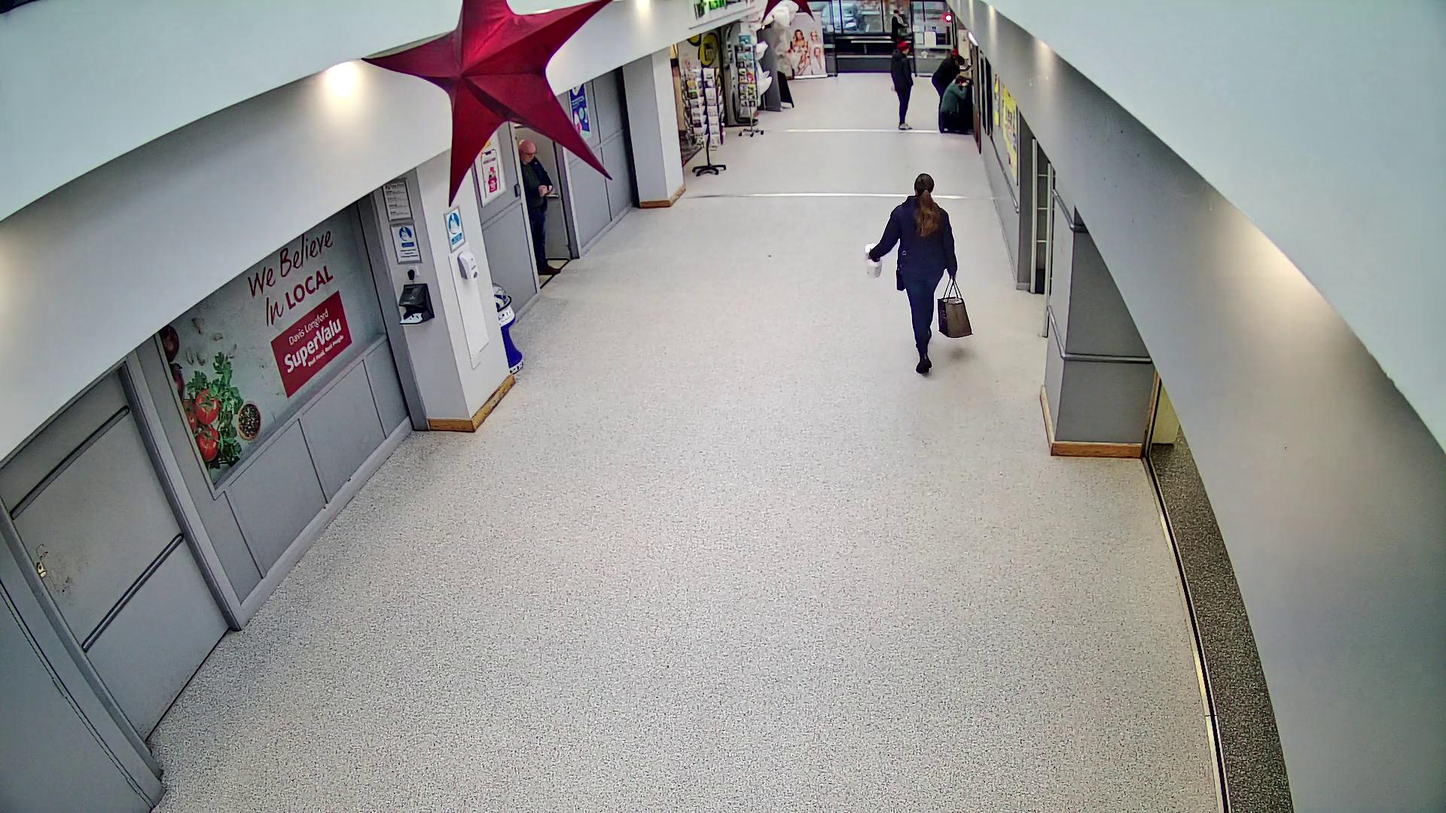carrying-item: (865, 242, 882, 279)
filled-shopping-bags: (938, 275, 972, 339)
person: (870, 172, 958, 371)
person with carrying item-s- and shopping bag-s-: (864, 171, 972, 373)
